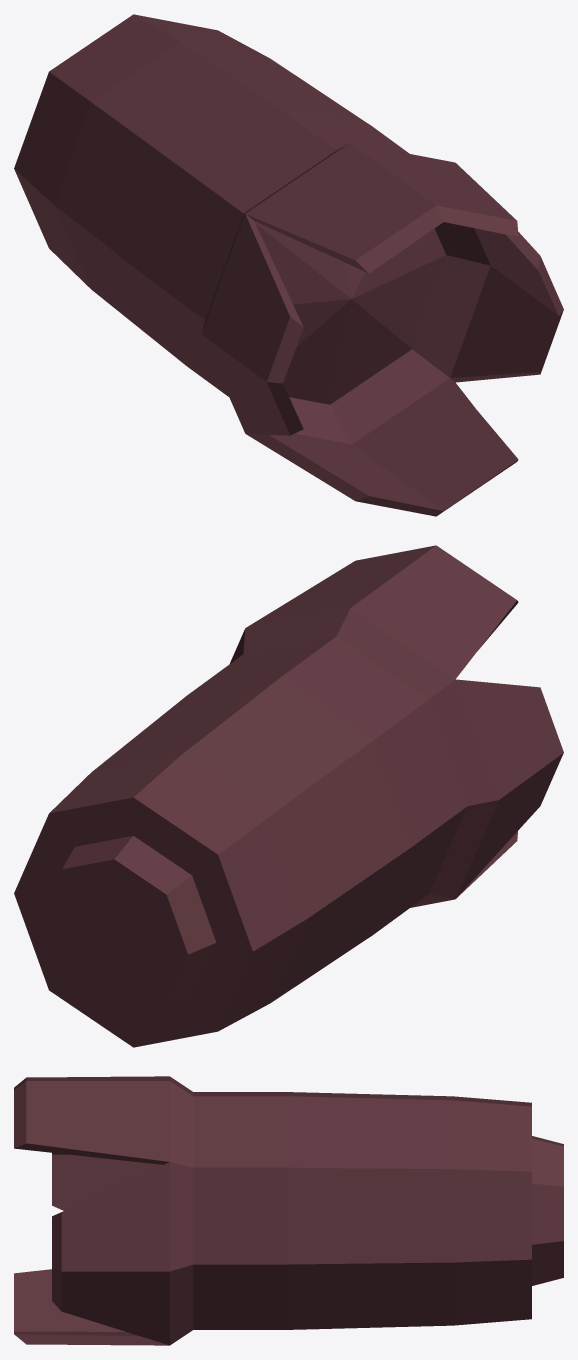
Rendered from camera-dslr-objective-big.fbx.
3 renders of one model, top to bottom at view 1: azimuth 30°, elevation 25°; view 2: azimuth 150°, elevation 25°; view 3: azimuth 270°, elevation 25°, orthographic. The views are drawn at different scales.
Parts seen in each view (by area): view 1: camera-dslr-objective-big; view 2: camera-dslr-objective-big; view 3: camera-dslr-objective-big.
Boxes of the visible parts, x1,y1,x2,y2 form: camera-dslr-objective-big: (14,14,563,516); camera-dslr-objective-big: (14,545,563,1047); camera-dslr-objective-big: (14,1076,563,1345).
Size of the model in its own units: 0.0968 by 0.0968 by 0.1857.
